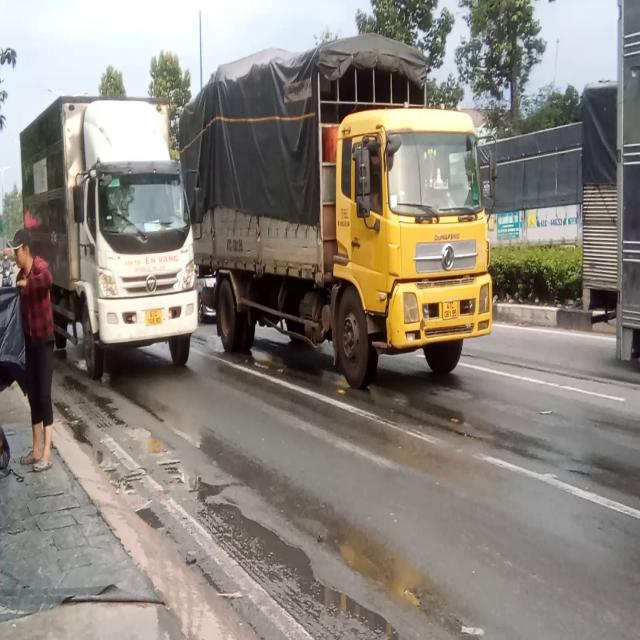bien_vang: (145, 305, 161, 326), (445, 302, 459, 322)
